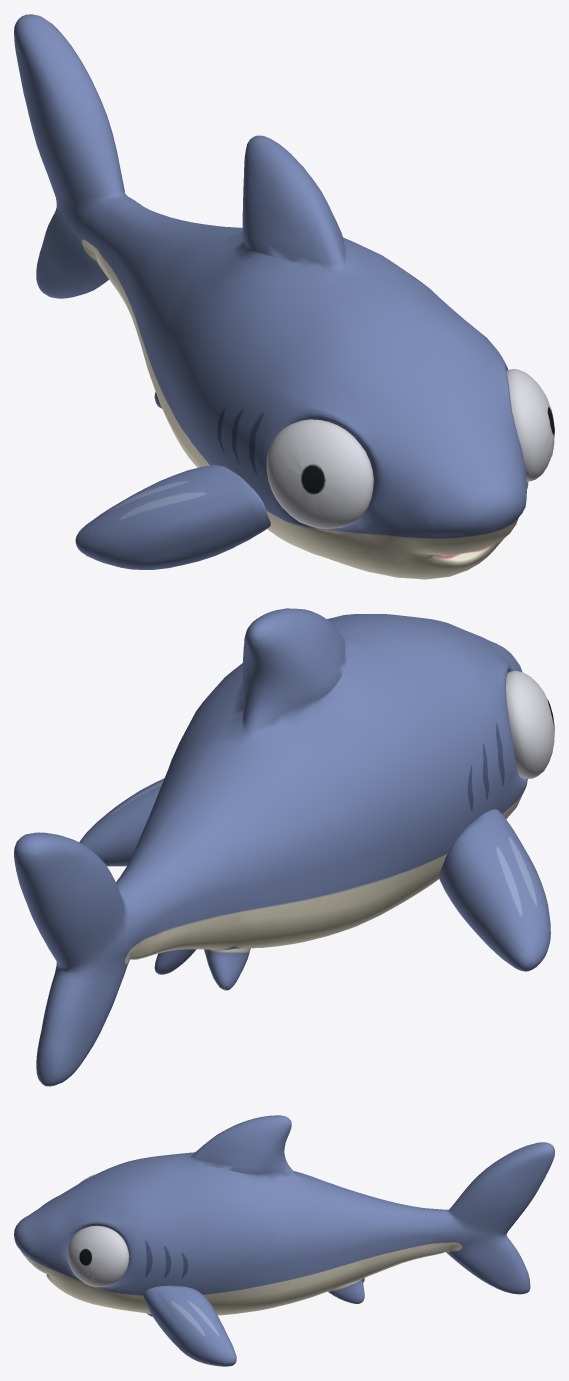
The model's file is cartoon_shark_colored.glb.
3 renders of one model, top to bottom at view 1: azimuth 30°, elevation 25°; view 2: azimuth 150°, elevation 25°; view 3: azimuth 270°, elevation 25°, orthographic. The views are drawn at different scales.
Visible parts, largest first — view 1: Cartoon_Shark_Colored; view 2: Cartoon_Shark_Colored; view 3: Cartoon_Shark_Colored.
Part boxes in pixels (box(x1,y1,x2,y2)): Cartoon_Shark_Colored: box(14, 14, 554, 579); Cartoon_Shark_Colored: box(14, 608, 554, 1086); Cartoon_Shark_Colored: box(14, 1115, 554, 1366).
Size of the model in its own units: 0.563 by 0.4087 by 0.9995.
Materials: 1 (1 with a texture image).
